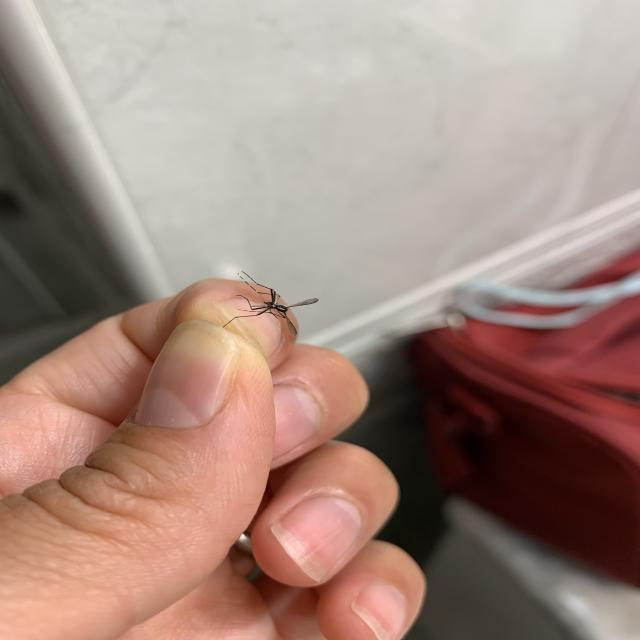albopictus: (223, 269, 318, 336)
